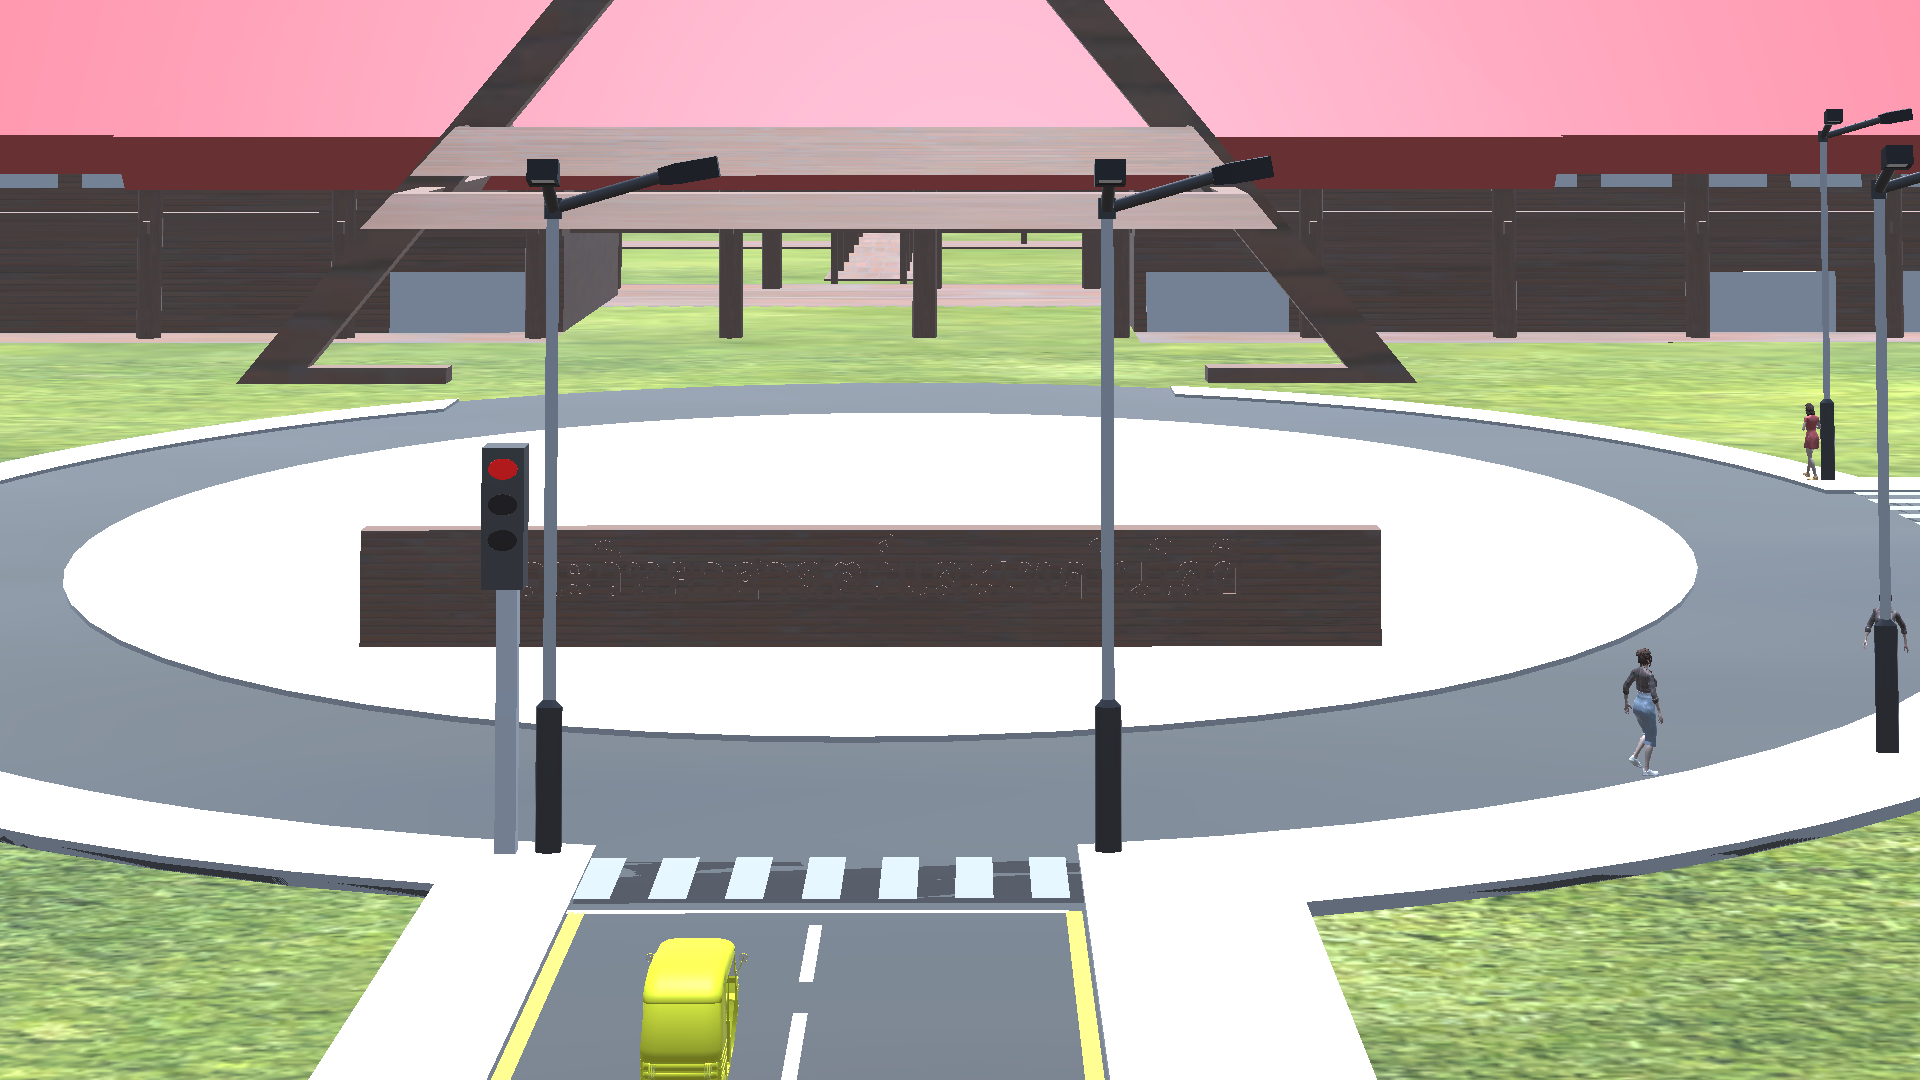pedestrian: (1616, 640, 1673, 779), (1793, 398, 1836, 479)
